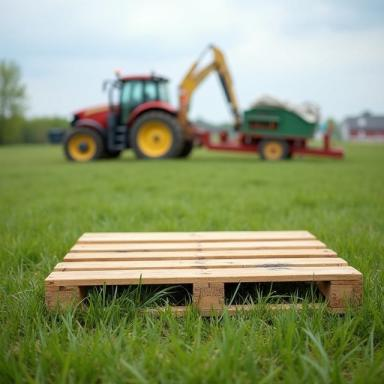pallet: (45, 230, 364, 319), (225, 281, 327, 304)
